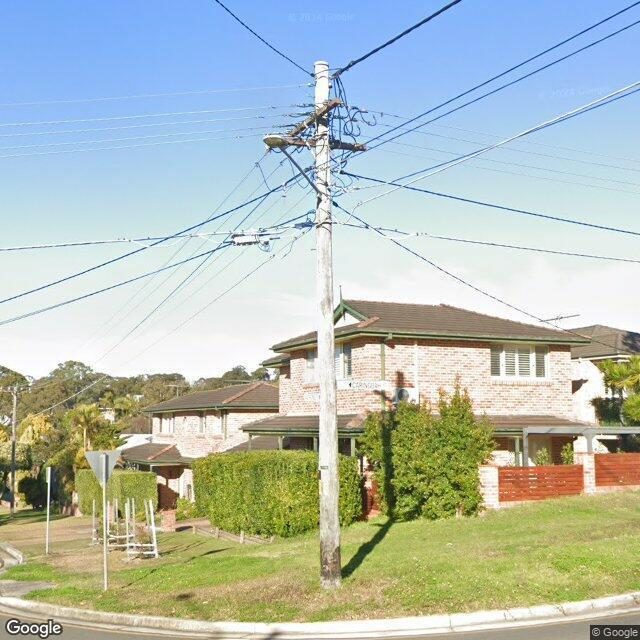crossarm: (289, 98, 343, 136), (288, 137, 368, 152)
streetlight: (262, 133, 327, 197)
timber-pole: (314, 61, 342, 582), (10, 386, 18, 516)
